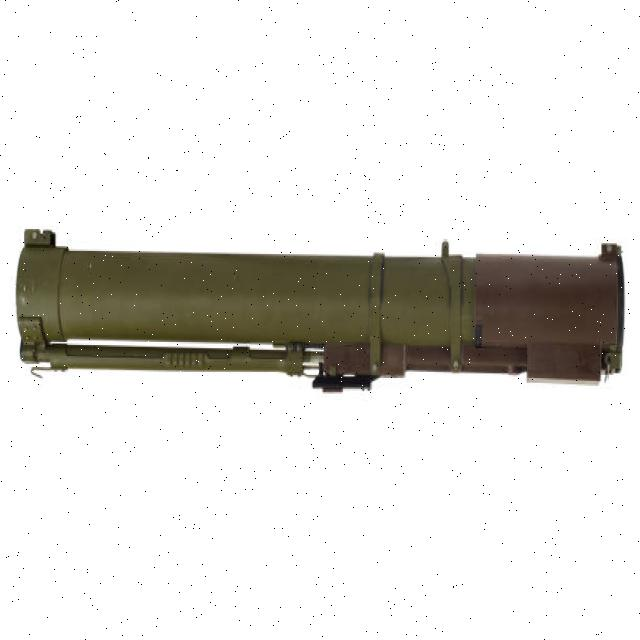bazooka: (11, 207, 635, 401)
